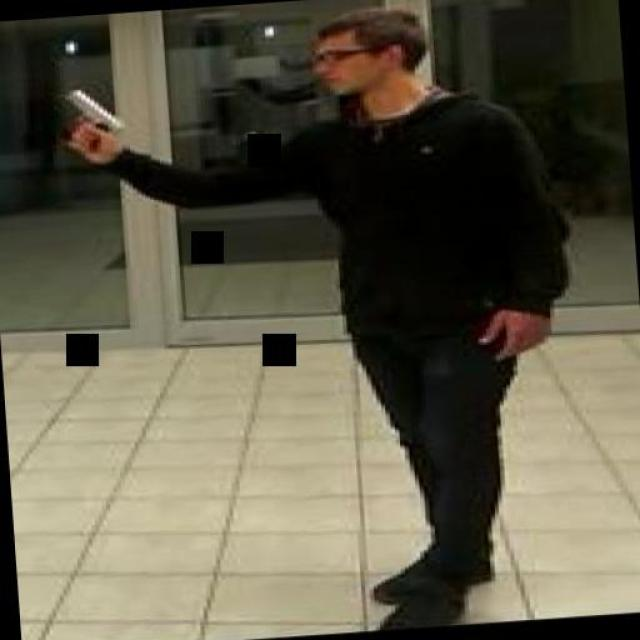gun: (54, 84, 131, 158)
